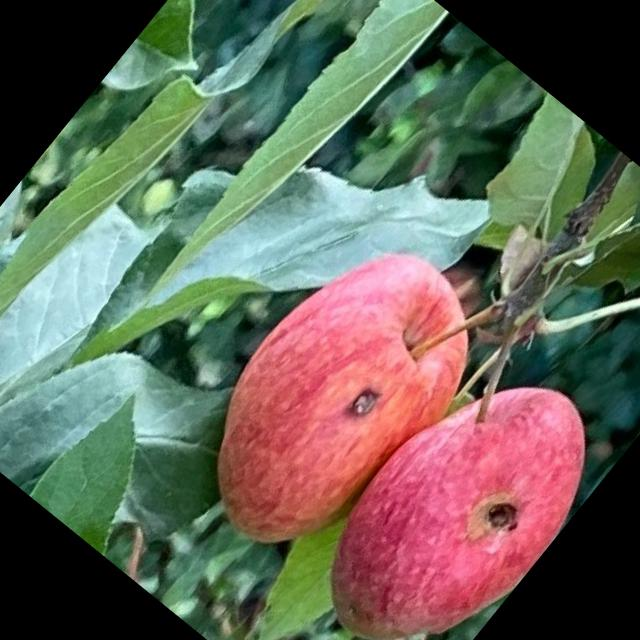Apples: (159, 214, 510, 586), (288, 337, 627, 639)
